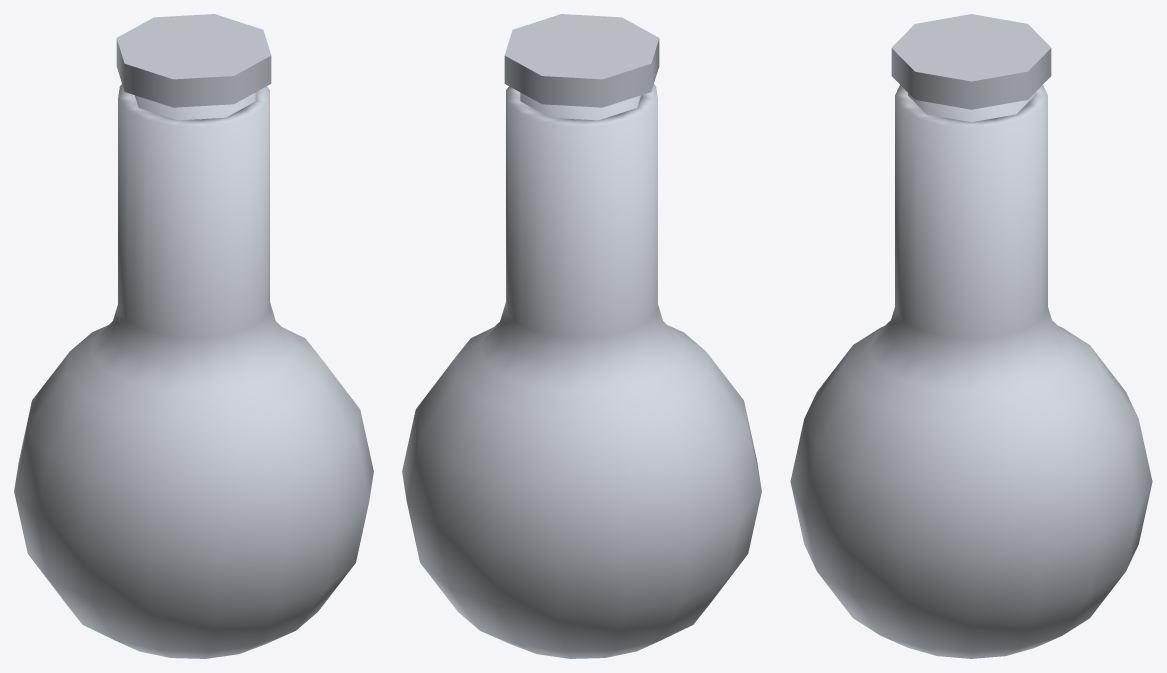
The model's file is bottle_glassware_round_bottom_flask_small.glb.
The picture shows the model from 3 angles, left to right: view 1: azimuth 30°, elevation 25°; view 2: azimuth 150°, elevation 25°; view 3: azimuth 270°, elevation 25°; orthographic projection.
Parts seen in each view (by area): view 1: bottle_glassware_round_bottom_flask_small, bottle_glassware_round_bottom_flask_small_cap; view 2: bottle_glassware_round_bottom_flask_small, bottle_glassware_round_bottom_flask_small_cap; view 3: bottle_glassware_round_bottom_flask_small, bottle_glassware_round_bottom_flask_small_cap.
Boxes of the visible parts, x1,y1,x2,y2 form: bottle_glassware_round_bottom_flask_small: (14, 84, 373, 658); bottle_glassware_round_bottom_flask_small_cap: (116, 14, 271, 120); bottle_glassware_round_bottom_flask_small: (402, 84, 761, 658); bottle_glassware_round_bottom_flask_small_cap: (504, 14, 659, 120); bottle_glassware_round_bottom_flask_small: (790, 85, 1152, 658); bottle_glassware_round_bottom_flask_small_cap: (891, 14, 1051, 122).
Size of the model in its own units: 8.31 by 14.84 by 8.31.
Materials: 1 (1 with a texture image).
